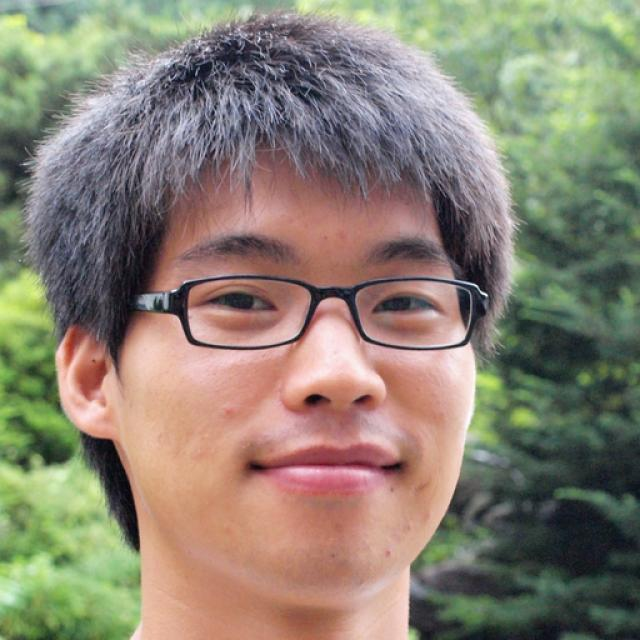content: (122, 146, 476, 615)
